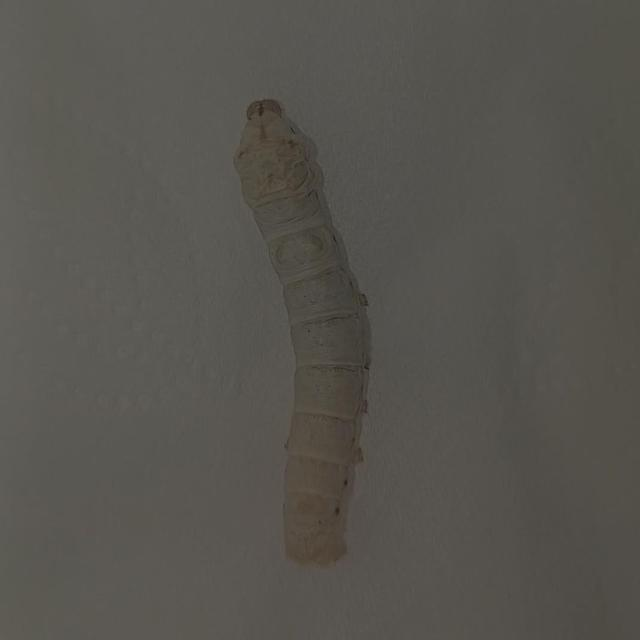Healthy: (204, 77, 424, 582)
